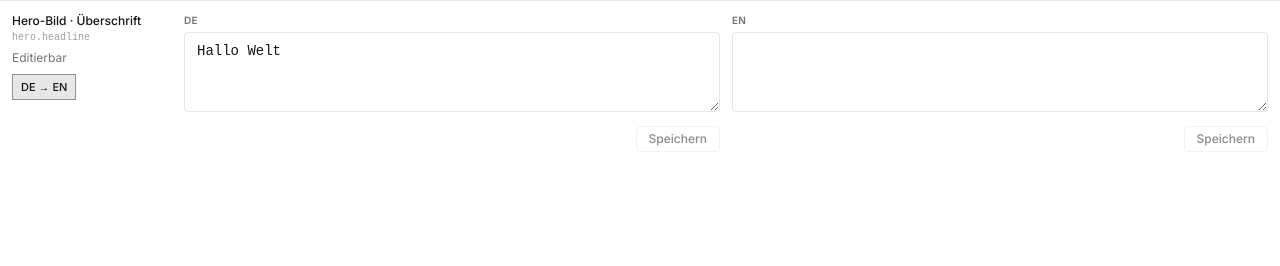
Test: EditableField — späte Vorschläge zerstören keinen neueren Text › bietet den Vorschlag separat an, wenn das Zielfeld zwischenzeitlich bearbeitet wurde
Click the button "DE → EN" at (44, 87), box [12, 74, 76, 100]
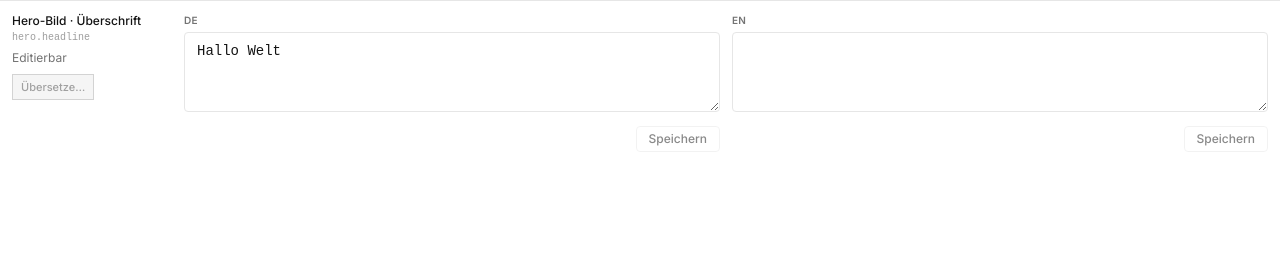
Type "Mein EN-Text" into the text box below "EN" at (1000, 72), box [732, 32, 1268, 112]
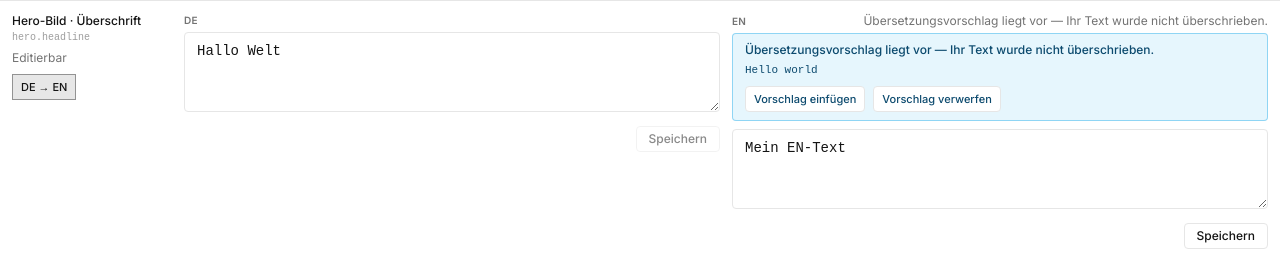
Now the message shows "Hello world", box [745, 64, 818, 76]
Click the button "Vorschlag einfügen" at (805, 99), box [745, 86, 865, 112]
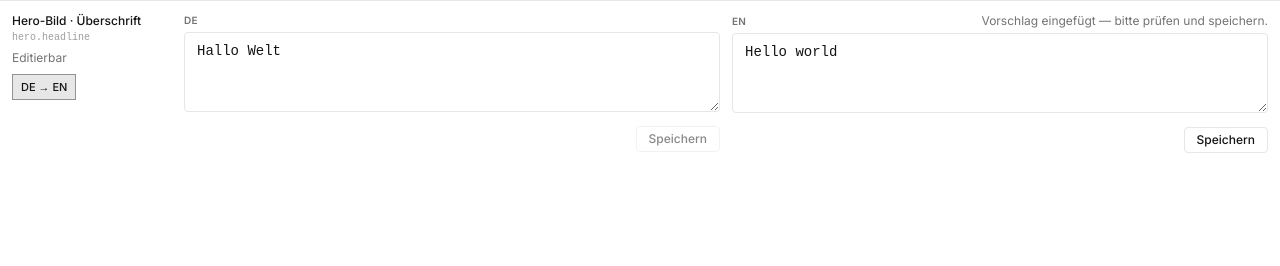
Now the 2nd text box holds "Hello world", box [732, 33, 1268, 113]
Now the message is gone
